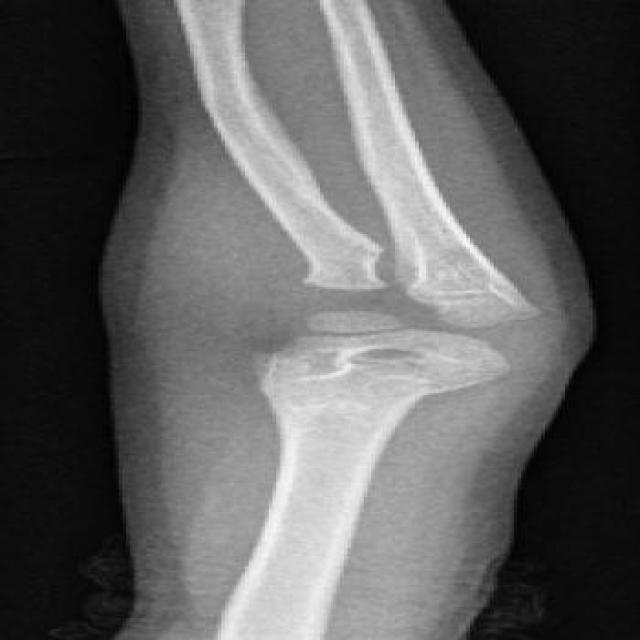Fracture: (271, 260, 413, 354)
